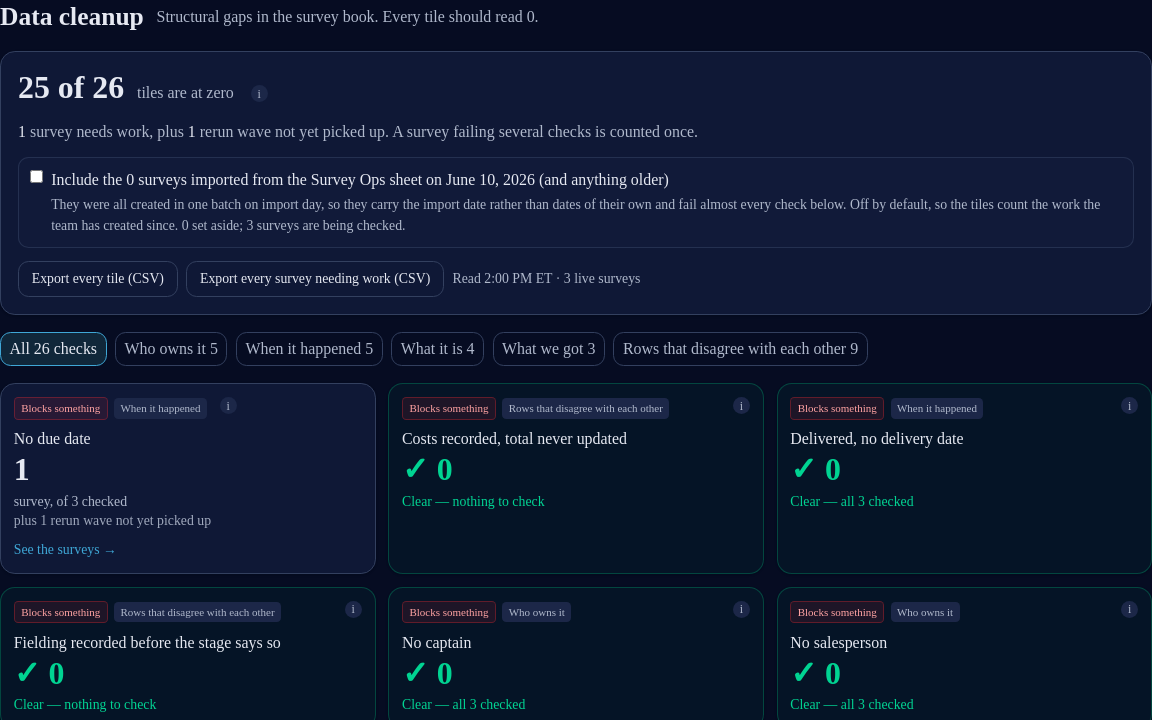
Test: the drill › lists the surveys that fail that check, and only those
What coordinates should you click on to do the following:
click the button named "Open the 2 surveys behind \"No due date\""
I would click on:
 (61, 408)
Its box is top-left (0, 383), bottom-right (376, 574).
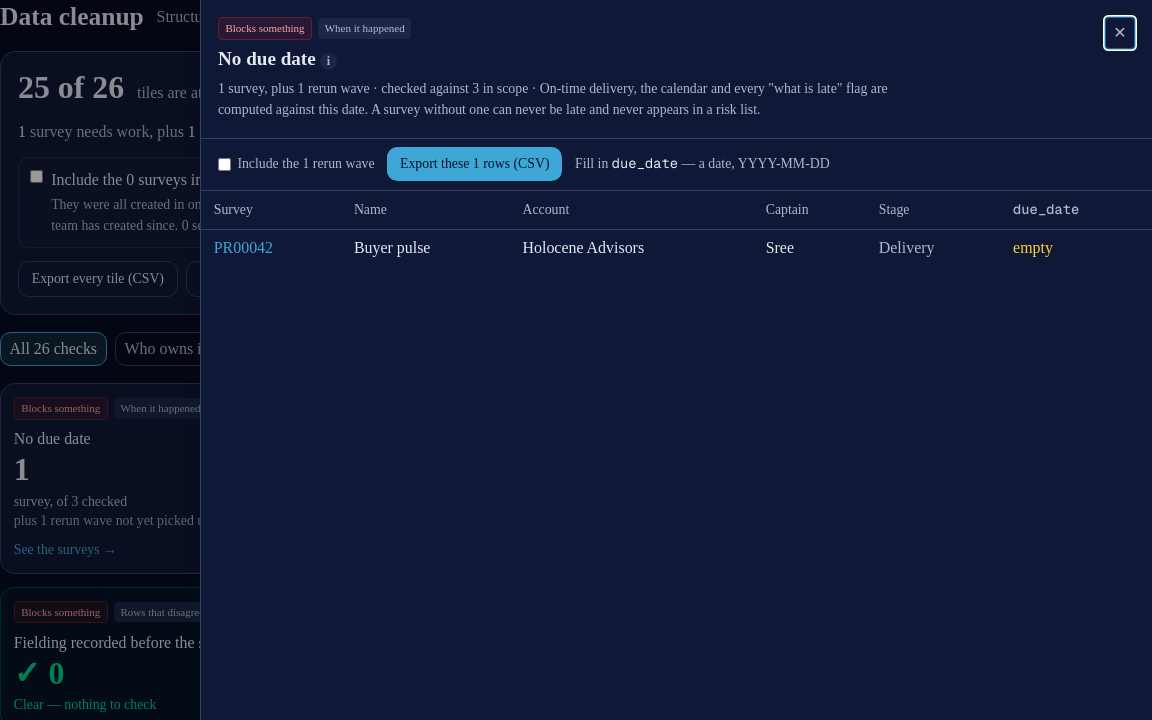
expect the link "PR00050" is not shown: met
expect the column heading "due_date" is shown: met, box top-left (1000, 190), bottom-right (1151, 229)
expect the text "empty" is shown: met, box top-left (1013, 239), bottom-right (1053, 256)
What coordinates should you click on to do the following:
click the checkbox labelled "Include the 1 rerun wave"
I would click on:
 (224, 164)
Its box is top-left (218, 158), bottom-right (231, 170).
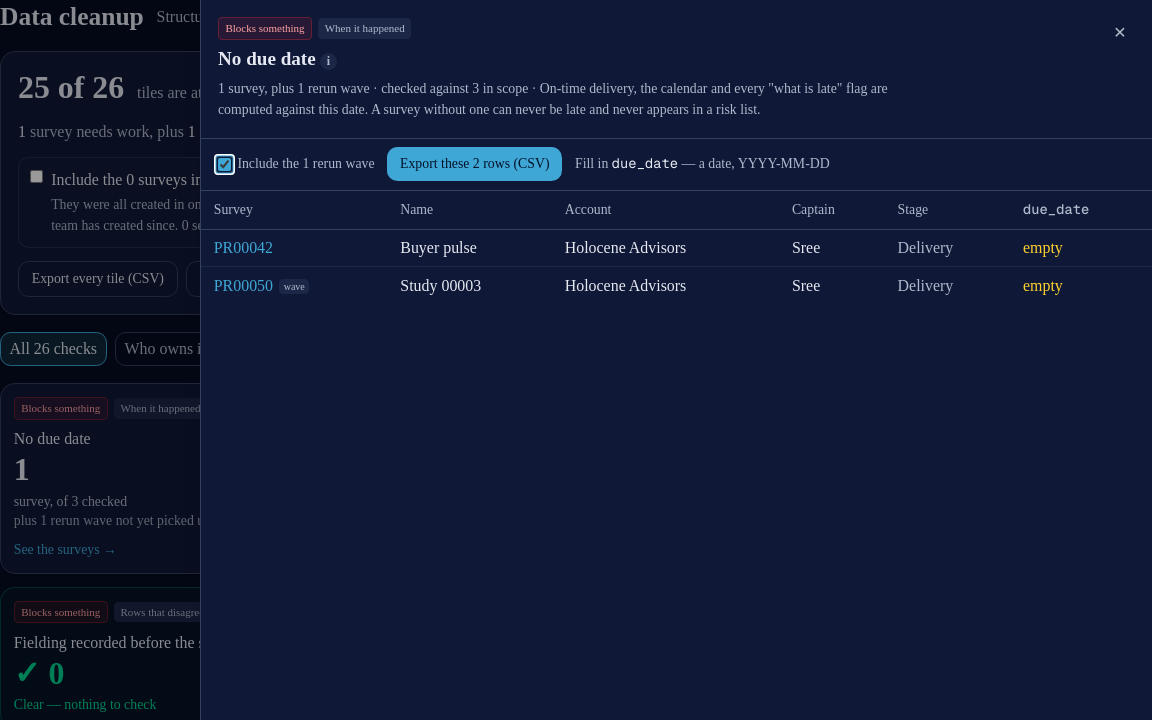
expect the link "PR00050" is shown: met, box top-left (214, 277), bottom-right (273, 294)
